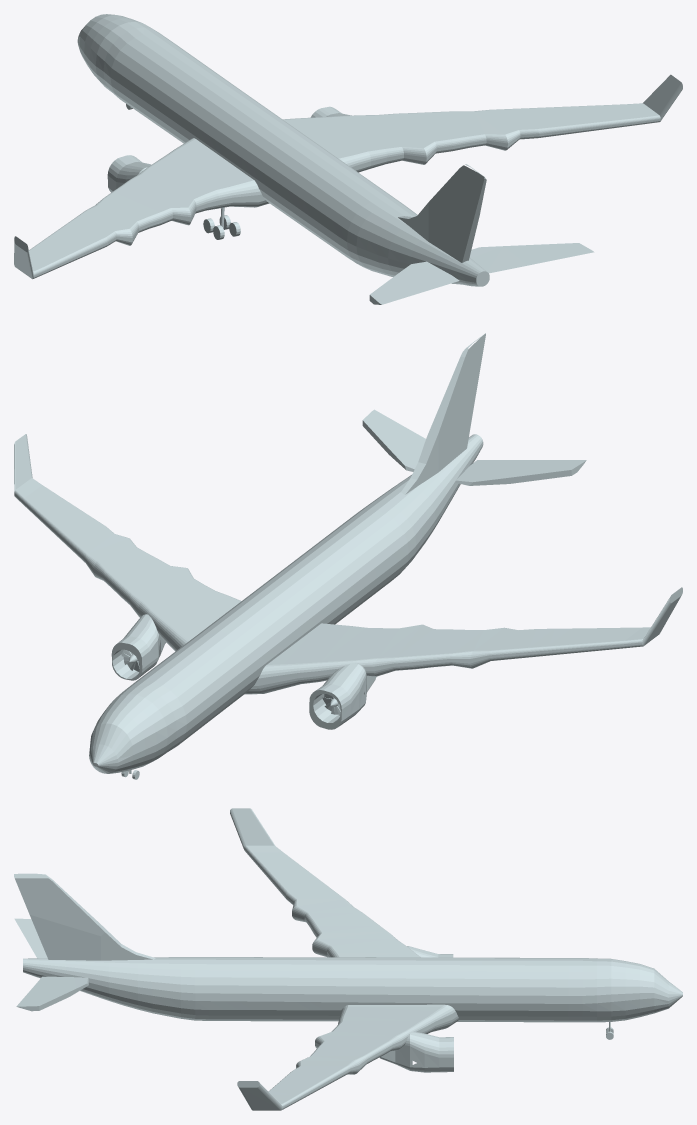
3 renders of one model, top to bottom at view 1: azimuth 30°, elevation 25°; view 2: azimuth 150°, elevation 25°; view 3: azimuth 270°, elevation 25°, orthographic. The views are drawn at different scales.
Parts seen in each view (by area): view 1: Aircraft visual hull, Landing gear; view 2: Aircraft visual hull; view 3: Aircraft visual hull.
Part boxes in pixels (x1,y1,x2,y2): Aircraft visual hull: [14, 14, 682, 304]; Landing gear: [126, 104, 240, 239]; Aircraft visual hull: [14, 333, 682, 773]; Aircraft visual hull: [14, 808, 682, 1110].
Size of the model in its own units: 60.64 by 16.87 by 63.38.
